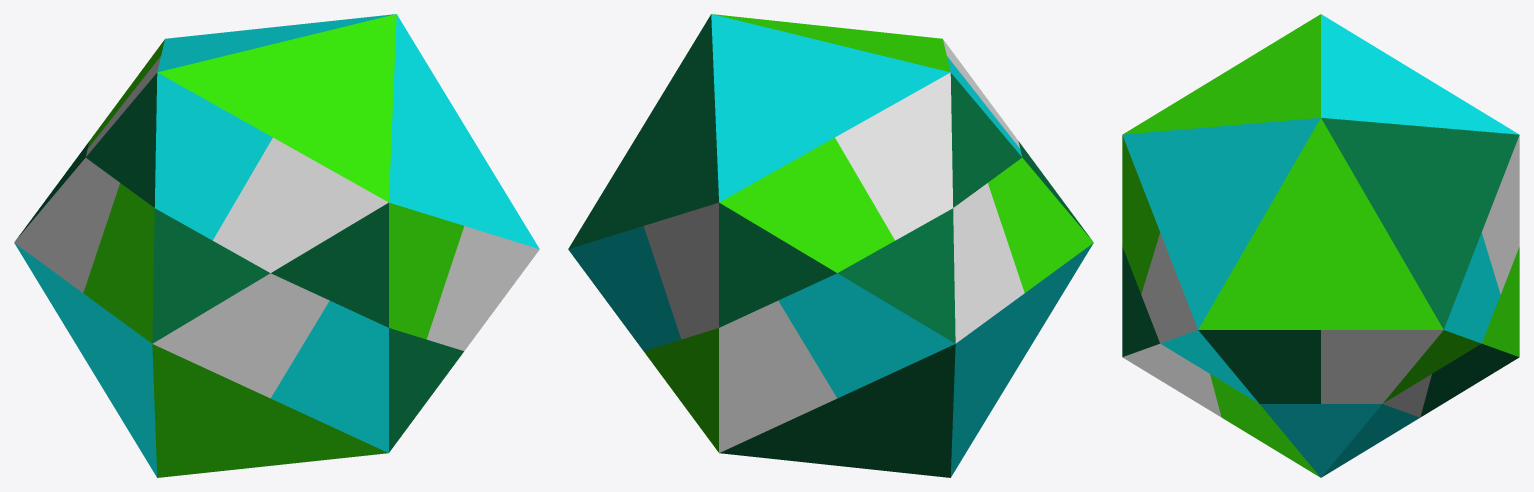
The model's file is icosahedron4.glb.
3 views of the same model, side by side, from view 1: azimuth 30°, elevation 25°; view 2: azimuth 150°, elevation 25°; view 3: azimuth 270°, elevation 25° (orthographic). The views are drawn at different scales.
Parts seen in each view (by area): view 1: Solid2, Solid1, Solid4, Solid3; view 2: Solid3, Solid1, Solid4, Solid2; view 3: Solid2, Solid1, Solid3, Solid4, Solid5, Solid6.
Boxes of the visible parts, x1,y1,x2,y2 form: Solid2: (83, 14, 464, 477); Solid1: (14, 14, 539, 477); Solid4: (14, 56, 539, 398); Solid3: (15, 73, 463, 452); Solid3: (568, 14, 1092, 477); Solid1: (568, 14, 1093, 477); Solid4: (643, 39, 1024, 452); Solid2: (644, 14, 1093, 452); Solid2: (1122, 14, 1519, 477); Solid1: (1122, 14, 1518, 477); Solid3: (1122, 118, 1519, 417); Solid4: (1141, 135, 1519, 417); Solid5: (1122, 344, 1221, 417); Solid6: (1161, 344, 1221, 416).
Bounding box in the file's own units: 1.7 × 1.7 × 1.7.
